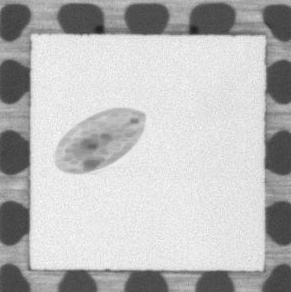DIE_INK: (50, 102, 149, 179)
